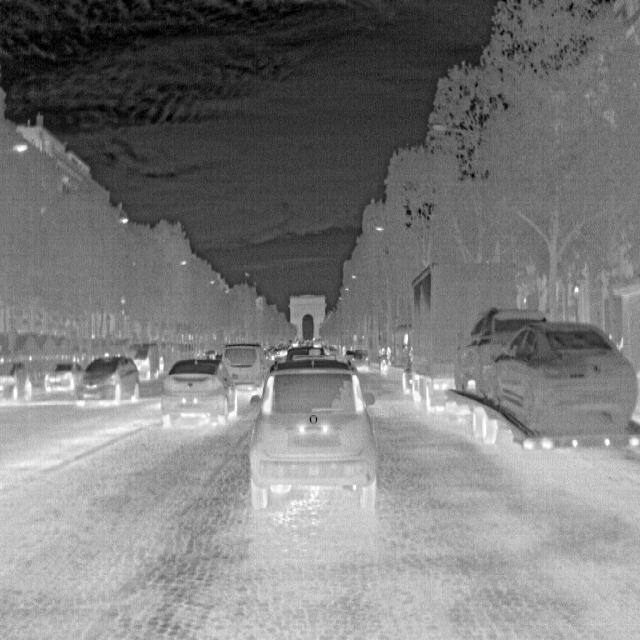Vehicle: (403, 260, 639, 458), (244, 341, 380, 515), (159, 350, 239, 430), (74, 352, 141, 408)
